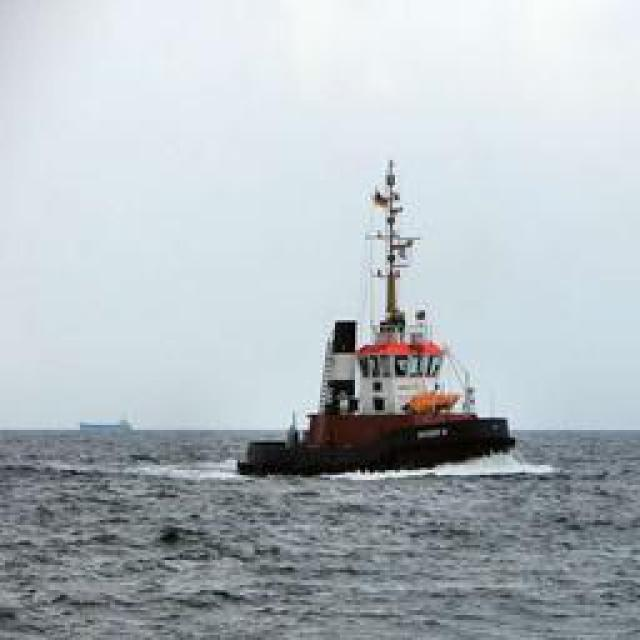ship2: (236, 160, 516, 479)
